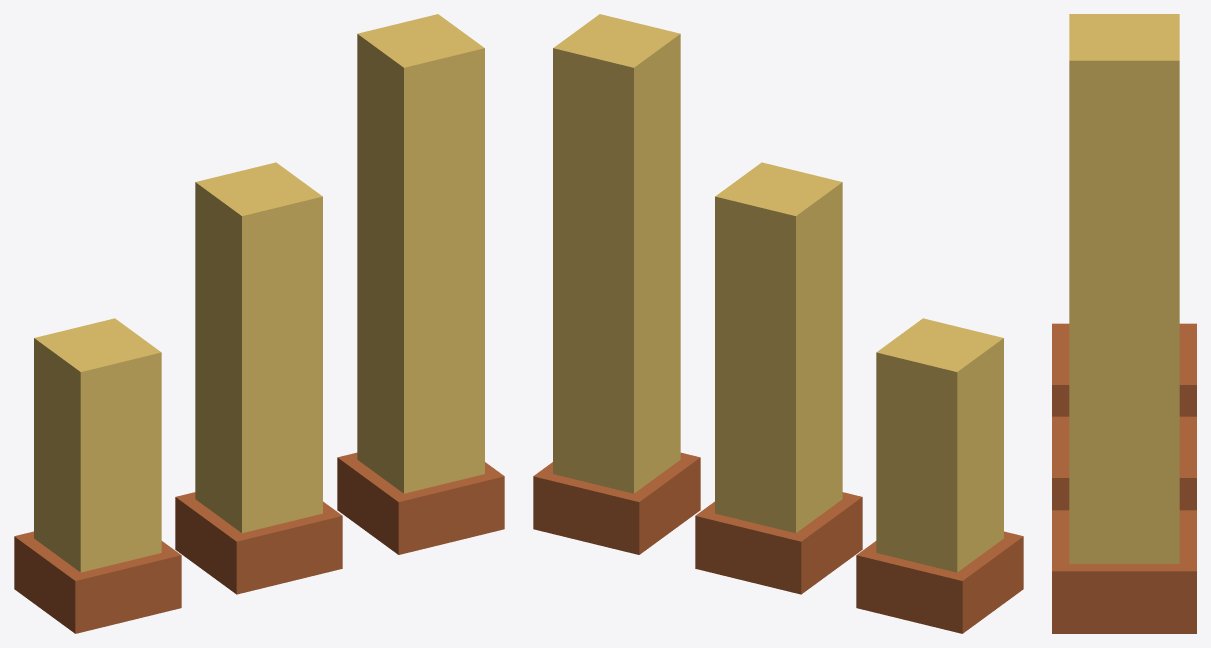
The model's file is ornamental.fbx.
3 views of the same model, side by side, from view 1: azimuth 30°, elevation 25°; view 2: azimuth 150°, elevation 25°; view 3: azimuth 270°, elevation 25° (orthographic). The views are drawn at different scales.
Parts seen in each view (by area): view 1: ornamental; view 2: ornamental; view 3: ornamental.
Boxes of the visible parts, bbox=[...] form: ornamental: bbox=[14, 14, 504, 633]; ornamental: bbox=[533, 14, 1023, 633]; ornamental: bbox=[1052, 14, 1196, 633].
Size of the model in its own units: 91.44 by 97.46 by 22.6.
